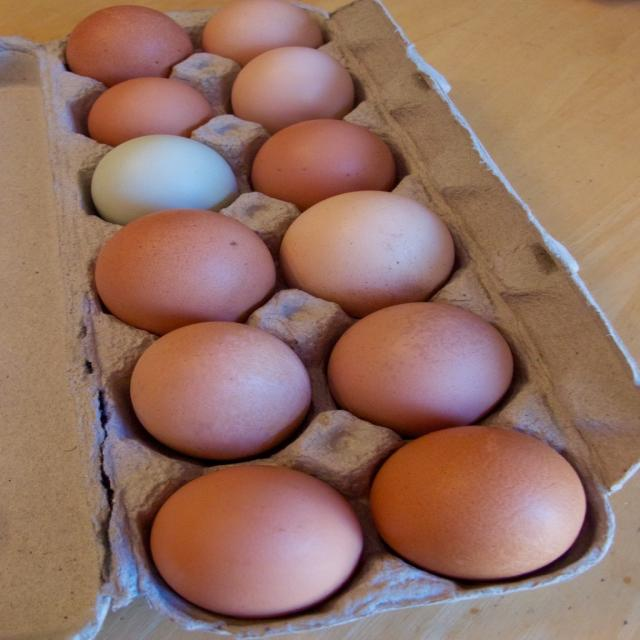Egg: (65, 0, 357, 622), (88, 132, 234, 222)
